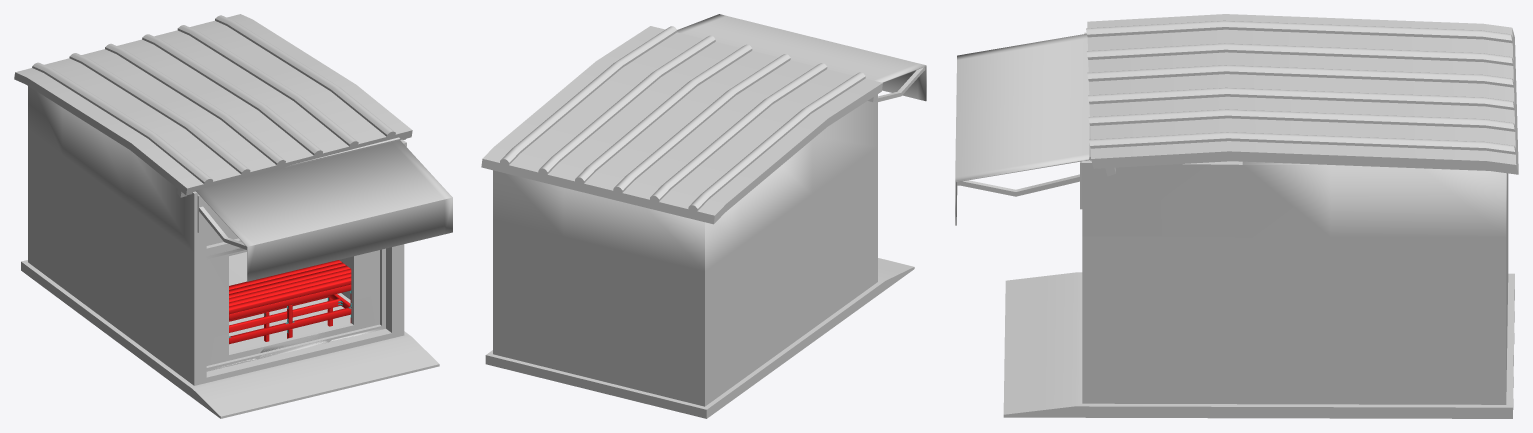
File: Loja_cenário 07.fbx
3 views of the same model, side by side, from view 1: azimuth 30°, elevation 25°; view 2: azimuth 150°, elevation 25°; view 3: azimuth 270°, elevation 25° (orthographic). The views are drawn at different scales.
Visible parts, largest first — view 1: Building.001, Building.013, Building.026, SM_Blacksmith_Table, Building.015, Building.017, Building.019, Building.016, Building.018, Building.014; view 2: Building.001, Building.013, Building.026, Building.014, Building.015, Building.019, Building.018, Building.016, Building.017; view 3: Building.001, Building.013, Building.026, Building.017, Building.016, Building.015, Building.018, Building.019, Building.014, Building.005.
Boxes of the visible parts, bbox=[...] form: Building.001: bbox=[21, 86, 439, 418]; Building.013: bbox=[14, 14, 412, 197]; Building.026: bbox=[195, 140, 452, 281]; SM_Blacksmith_Table: bbox=[229, 260, 351, 344]; Building.015: bbox=[69, 53, 250, 174]; Building.017: bbox=[215, 15, 395, 136]; Building.019: bbox=[142, 34, 322, 155]; Building.016: bbox=[105, 43, 285, 165]; Building.018: bbox=[177, 25, 358, 146]; Building.014: bbox=[32, 62, 212, 183]; Building.001: bbox=[485, 94, 914, 418]; Building.013: bbox=[481, 26, 882, 224]; Building.026: bbox=[677, 14, 926, 101]; Building.014: bbox=[688, 72, 865, 211]; Building.015: bbox=[650, 63, 827, 201]; Building.019: bbox=[575, 44, 752, 183]; Building.018: bbox=[538, 35, 715, 174]; Building.016: bbox=[613, 54, 790, 192]; Building.017: bbox=[500, 26, 677, 164]; Building.001: bbox=[1003, 32, 1514, 418]; Building.013: bbox=[1087, 14, 1518, 176]; Building.026: bbox=[955, 33, 1089, 225]; Building.017: bbox=[1089, 132, 1515, 154]; Building.016: bbox=[1087, 65, 1513, 87]; Building.015: bbox=[1086, 43, 1513, 65]; Building.018: bbox=[1088, 109, 1515, 131]; Building.019: bbox=[1088, 87, 1514, 110]; Building.014: bbox=[1086, 20, 1512, 43]; Building.005: bbox=[957, 174, 1079, 196].
Size of the model in its own units: 220 by 200 by 370.
